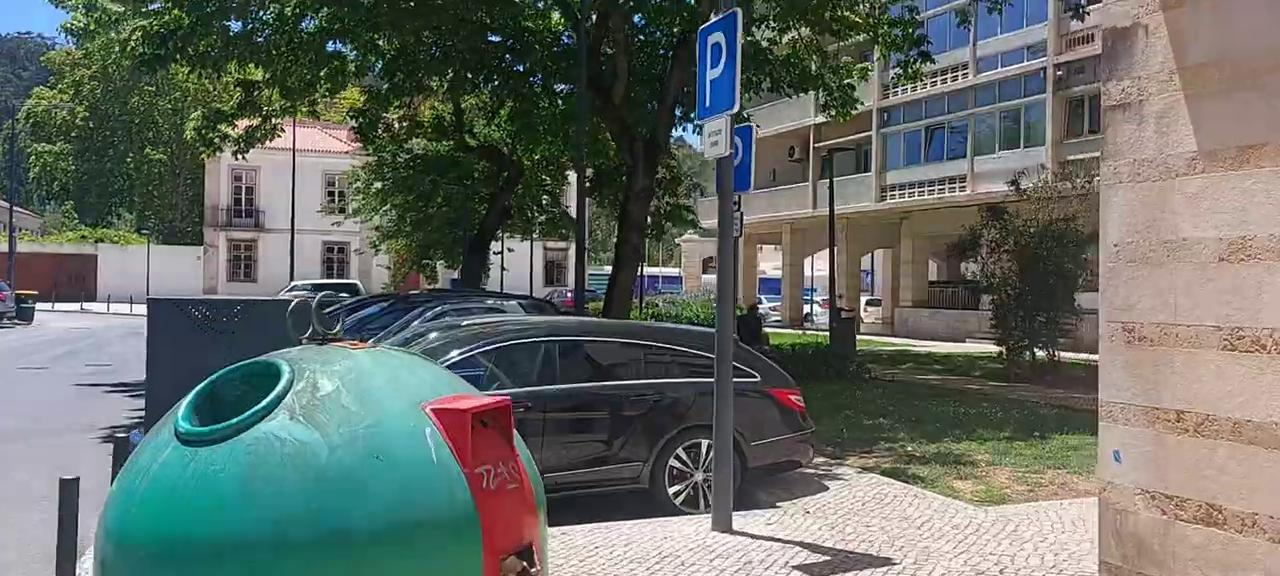Estacionamento autorizado: (691, 2, 745, 116)
